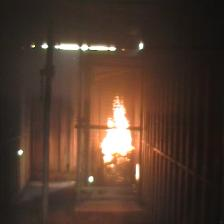fire: (99, 93, 134, 163)
